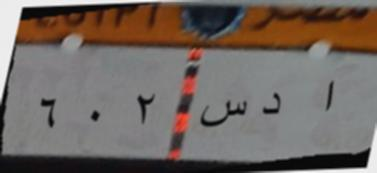0: (84, 103, 108, 133)
2: (135, 88, 159, 135)
6: (34, 93, 65, 135)
alif: (317, 76, 340, 120)
daal: (258, 86, 286, 128)
seen: (199, 90, 251, 132)
